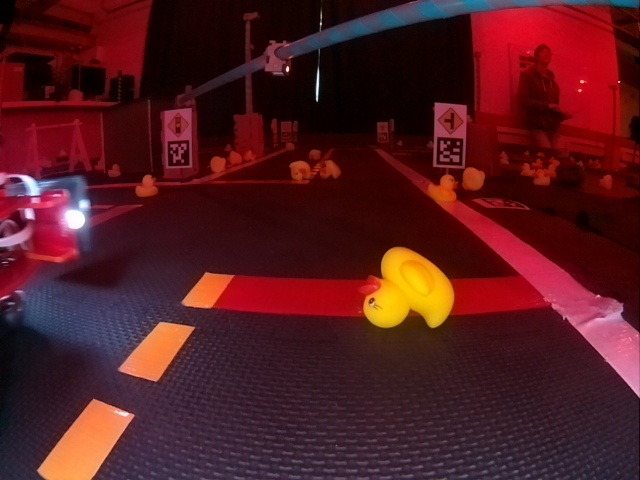Duckie: (361, 248, 454, 326), (430, 177, 459, 204), (464, 168, 485, 190), (290, 161, 311, 180), (136, 177, 158, 195), (321, 160, 340, 178), (211, 157, 226, 170)
Duckiebot: (1, 170, 84, 306)
Intersection sign: (435, 103, 464, 132)
QR code: (436, 138, 464, 168), (167, 139, 192, 168)
Signal sign: (168, 116, 190, 137)
Traffic light: (265, 42, 291, 75)
